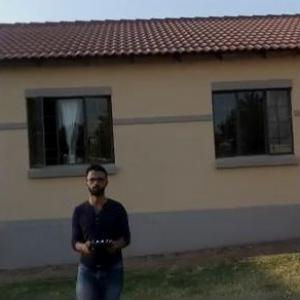follow: (66, 160, 134, 299)
